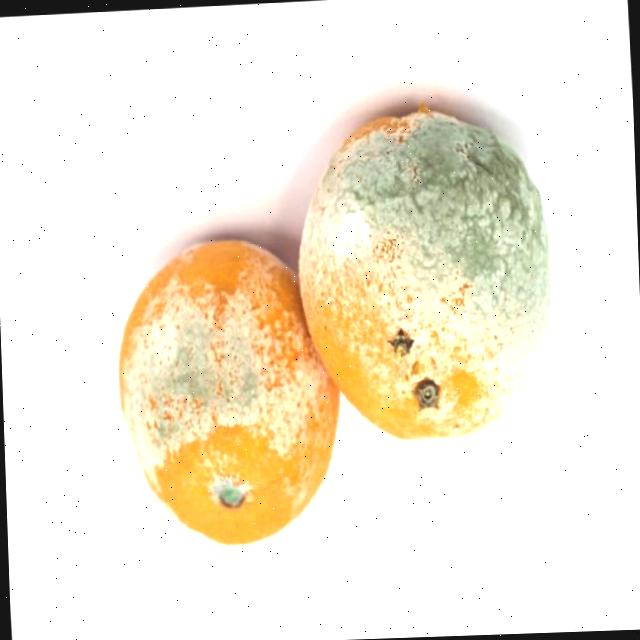rotten orange: (292, 99, 558, 444), (114, 233, 346, 549)
